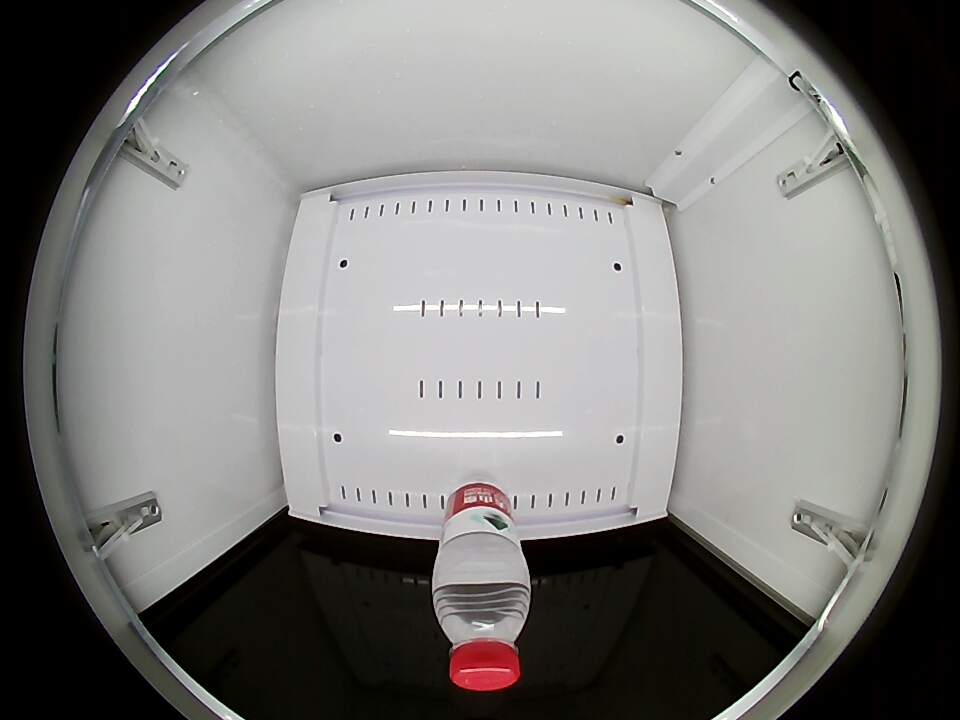nongfushanquan: (434, 561, 530, 691)
